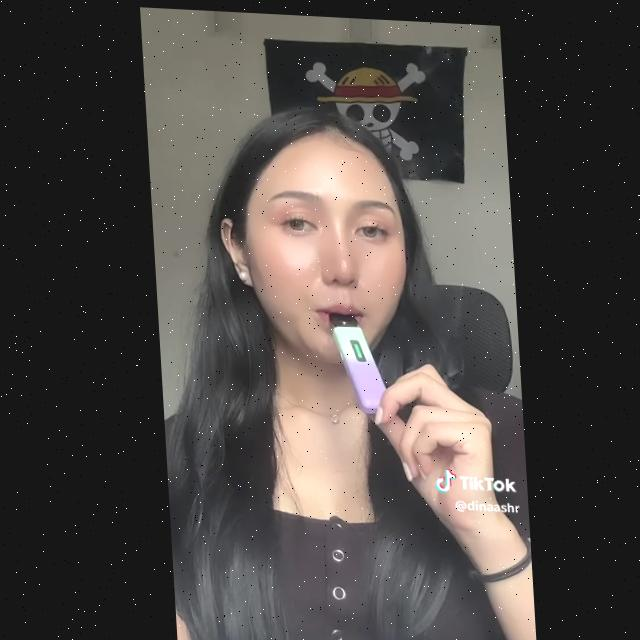vape: (324, 306, 386, 411)
